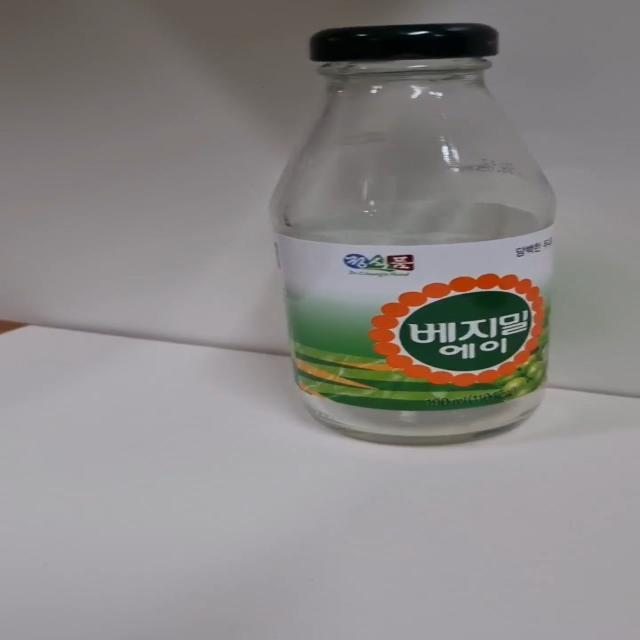Glass: (268, 22, 557, 447)
